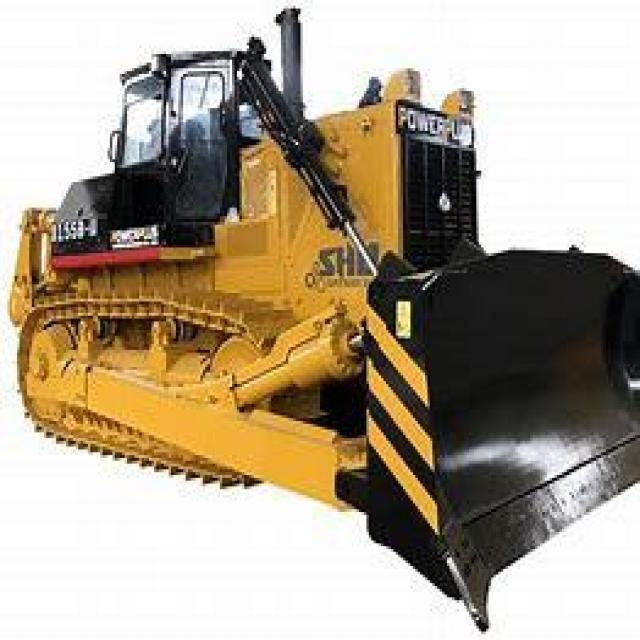Bulldozer: (12, 14, 638, 637)
